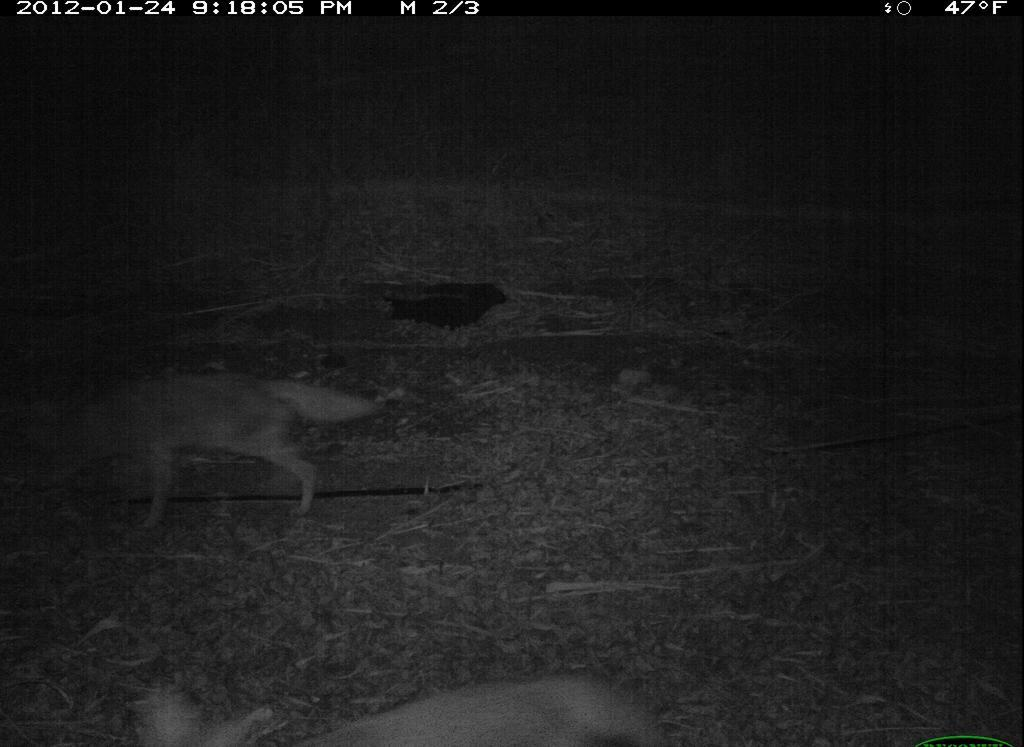coyote: (22, 354, 390, 555)
